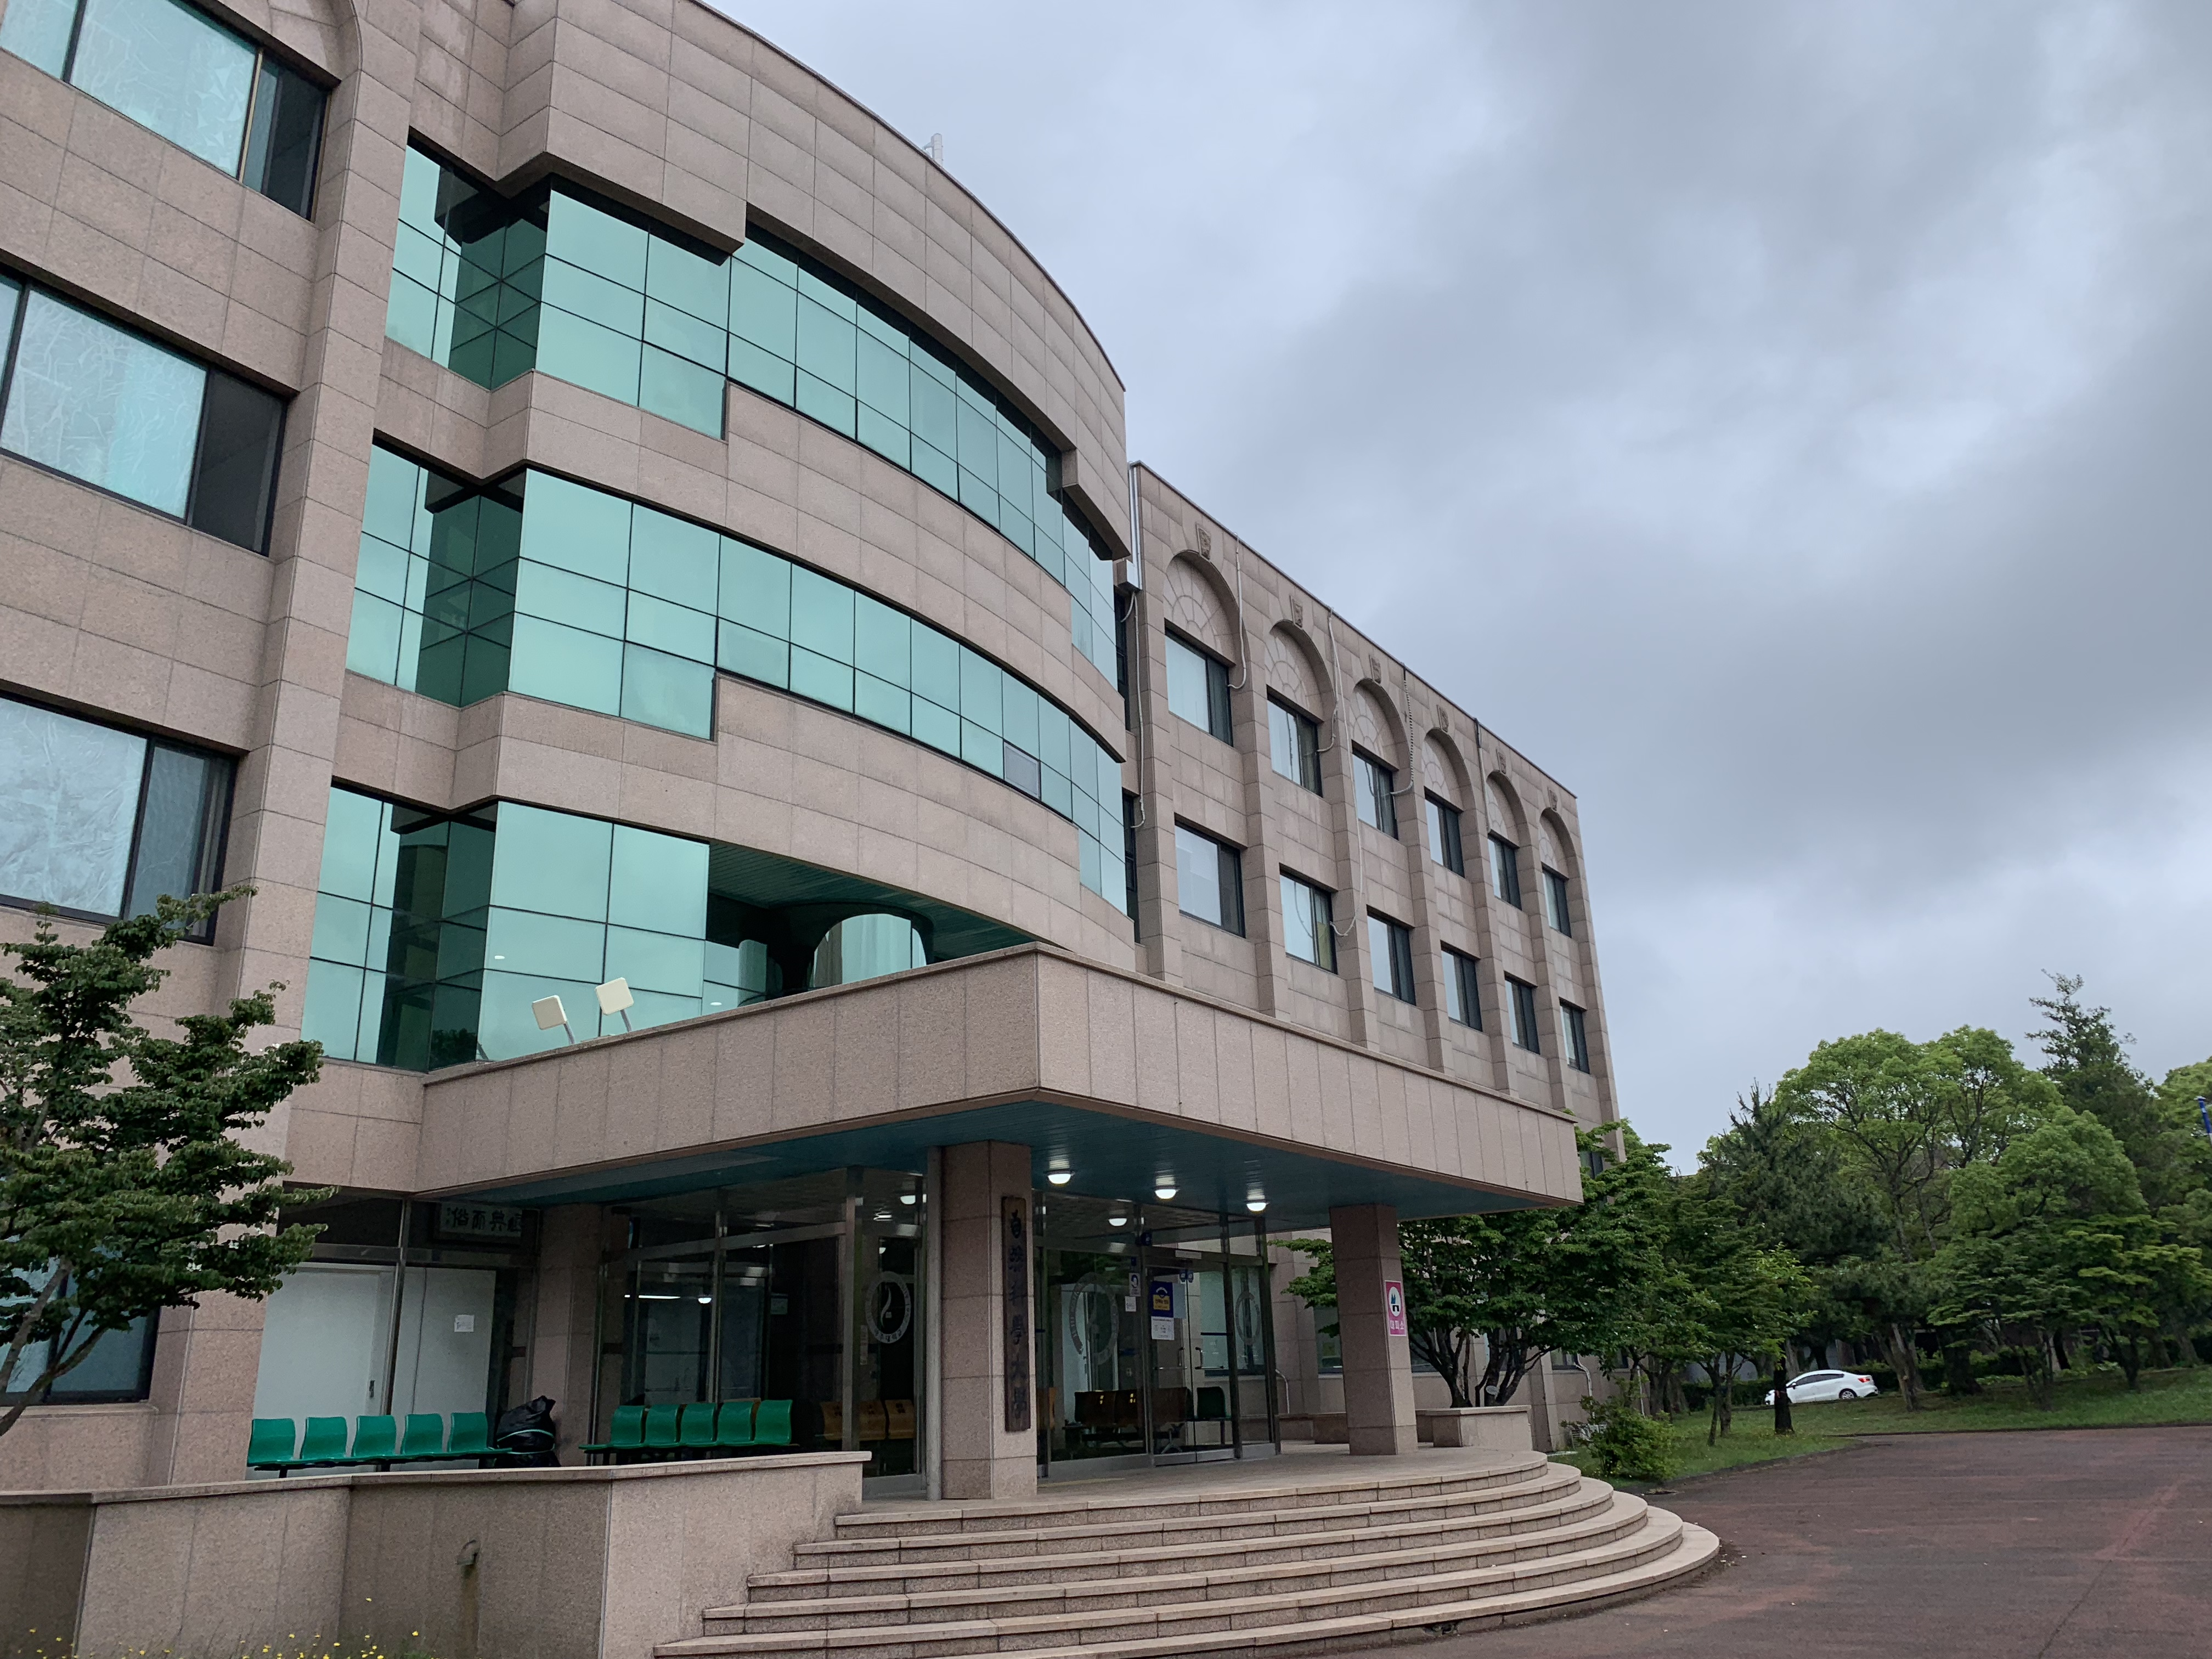Natural Science2: (298, 108, 1679, 1619)
